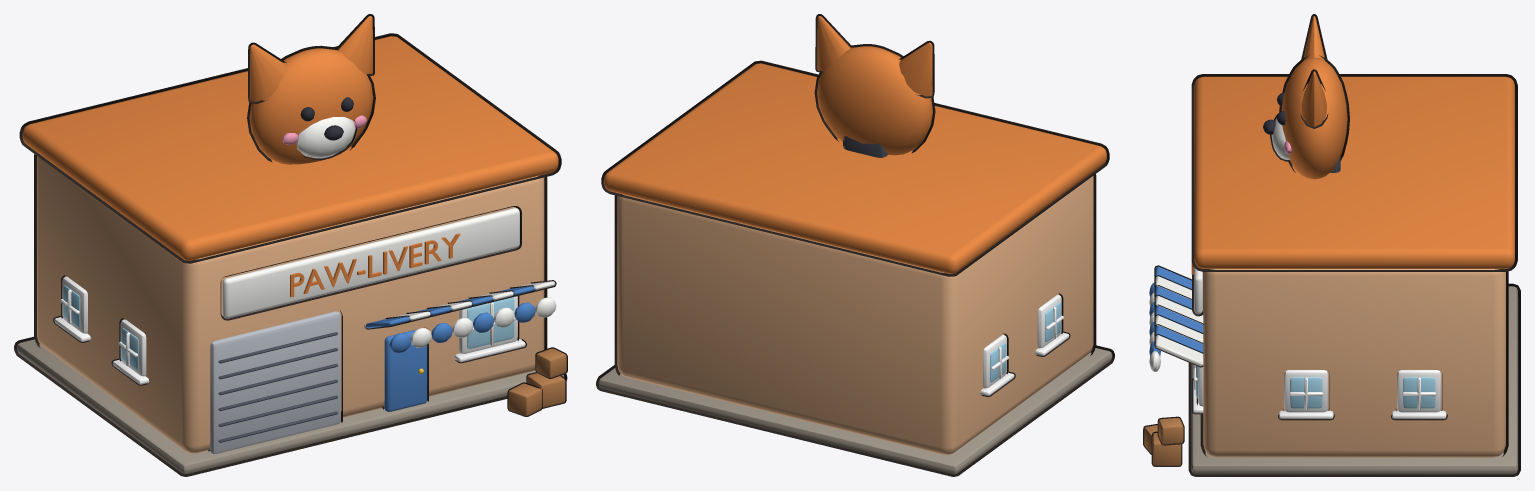
File: HQ_PawLivery.fbx
3 renders of one model, left to right at view 1: azimuth 30°, elevation 25°; view 2: azimuth 150°, elevation 25°; view 3: azimuth 270°, elevation 25°, orthographic. The views are drawn at different scales.
Visible parts, largest first — view 1: BL_HQ_PawLivery_RoofOrange, BL_HQ_PawLivery_WallPeach, BL_HQ_PawLivery_White, BL_HQ_PawLivery_MetalLight, BL_HQ_PawLivery_Outline, BL_HQ_PawLivery_StoneDark, BL_HQ_PawLivery_AwningBlue, BL_HQ_PawLivery_Frame, BL_HQ_PawLivery_Metal, BL_HQ_PawLivery_Wood, BL_HQ_PawLivery_Window; view 2: BL_HQ_PawLivery_WallPeach, BL_HQ_PawLivery_RoofOrange, BL_HQ_PawLivery_StoneDark, BL_HQ_PawLivery_Outline, BL_HQ_PawLivery_Frame, BL_HQ_PawLivery_Window; view 3: BL_HQ_PawLivery_RoofOrange, BL_HQ_PawLivery_WallPeach, BL_HQ_PawLivery_Outline, BL_HQ_PawLivery_StoneDark, BL_HQ_PawLivery_Frame, BL_HQ_PawLivery_White, BL_HQ_PawLivery_AwningBlue, BL_HQ_PawLivery_Window, BL_HQ_PawLivery_Wood.
Boxes of the visible parts, bbox=[...] form: BL_HQ_PawLivery_RoofOrange: bbox=[22, 16, 558, 297]; BL_HQ_PawLivery_WallPeach: bbox=[37, 156, 544, 453]; BL_HQ_PawLivery_White: bbox=[222, 117, 556, 347]; BL_HQ_PawLivery_MetalLight: bbox=[210, 311, 340, 453]; BL_HQ_PawLivery_Outline: bbox=[14, 14, 567, 476]; BL_HQ_PawLivery_StoneDark: bbox=[17, 339, 564, 473]; BL_HQ_PawLivery_AwningBlue: bbox=[365, 286, 535, 411]; BL_HQ_PawLivery_Frame: bbox=[54, 276, 525, 384]; BL_HQ_PawLivery_Metal: bbox=[218, 332, 338, 442]; BL_HQ_PawLivery_Wood: bbox=[508, 348, 566, 415]; BL_HQ_PawLivery_Window: bbox=[63, 285, 514, 369]; BL_HQ_PawLivery_WallPeach: bbox=[617, 176, 1093, 454]; BL_HQ_PawLivery_RoofOrange: bbox=[604, 16, 1106, 273]; BL_HQ_PawLivery_StoneDark: bbox=[598, 348, 1112, 474]; BL_HQ_PawLivery_Outline: bbox=[596, 14, 1114, 476]; BL_HQ_PawLivery_Frame: bbox=[980, 295, 1069, 395]; BL_HQ_PawLivery_Window: bbox=[990, 302, 1060, 382]; BL_HQ_PawLivery_RoofOrange: bbox=[1191, 16, 1514, 274]; BL_HQ_PawLivery_WallPeach: bbox=[1203, 269, 1505, 457]; BL_HQ_PawLivery_Outline: bbox=[1143, 14, 1520, 476]; BL_HQ_PawLivery_StoneDark: bbox=[1191, 286, 1517, 474]; BL_HQ_PawLivery_Frame: bbox=[1193, 365, 1446, 418]; BL_HQ_PawLivery_White: bbox=[1149, 118, 1289, 371]; BL_HQ_PawLivery_AwningBlue: bbox=[1149, 266, 1203, 356]; BL_HQ_PawLivery_Window: bbox=[1196, 366, 1435, 408]; BL_HQ_PawLivery_Wood: bbox=[1144, 417, 1183, 465].
Bounding box in the file's own units: 10.74 × 9.47 × 9.36.
